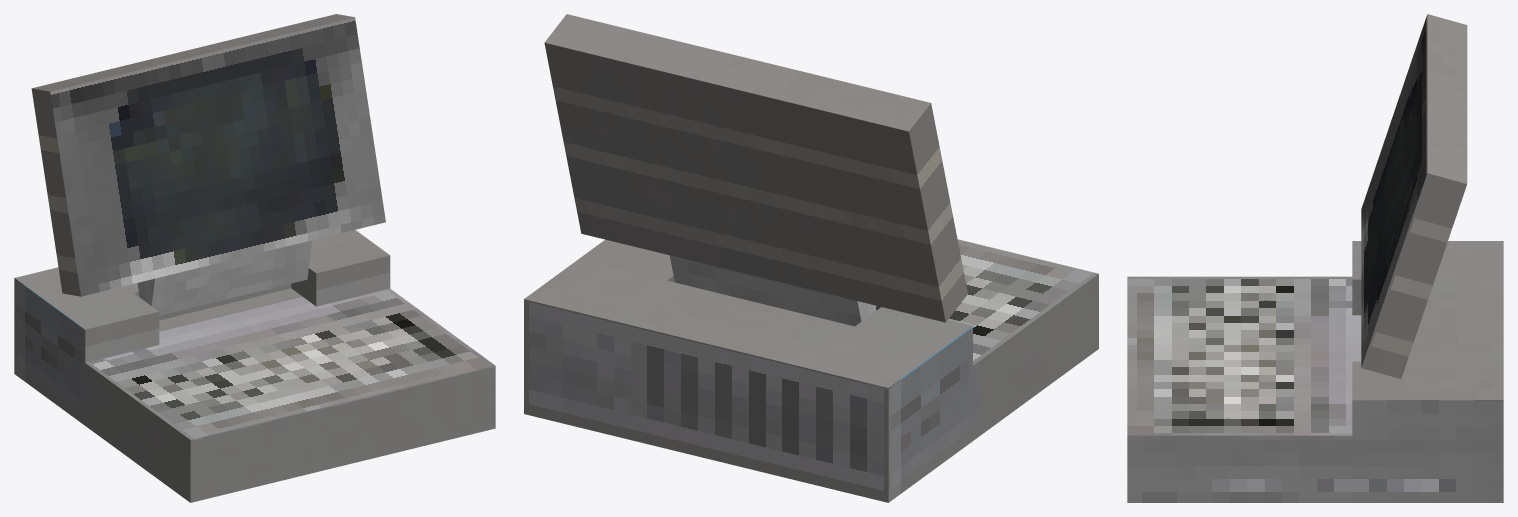
File: PortableComputerTerminal.obj
3 renders of one model, left to right at view 1: azimuth 30°, elevation 25°; view 2: azimuth 150°, elevation 25°; view 3: azimuth 270°, elevation 25°, orthographic. The views are drawn at different scales.
Visible parts, largest first — view 1: pCube40; view 2: pCube40; view 3: pCube40.
Part boxes in pixels (bbox=[...]): pCube40: bbox=[14, 14, 495, 502]; pCube40: bbox=[524, 14, 1098, 502]; pCube40: bbox=[1127, 14, 1503, 502].
Bounding box in the file's own units: 0.5202 × 0.503 × 0.5202.
1 material, 1 textured.
